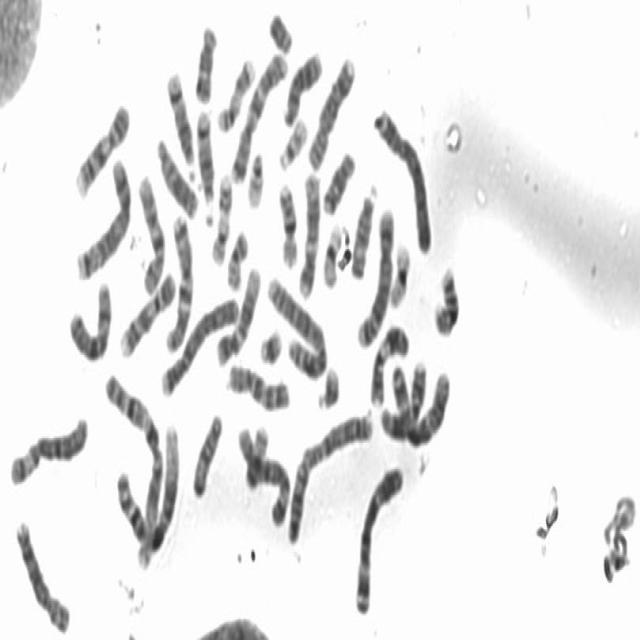A1: (103, 368, 165, 559), (117, 418, 181, 549)
A2: (284, 404, 374, 547), (263, 269, 328, 381)
A3: (351, 458, 406, 618), (380, 363, 452, 448)
B4: (369, 99, 434, 259), (158, 290, 241, 400)
B5: (74, 150, 134, 283), (354, 200, 396, 352)
C10: (134, 168, 167, 296), (225, 358, 291, 414)
C11: (377, 353, 428, 443), (367, 318, 411, 410)
C12: (214, 259, 262, 368), (296, 166, 321, 298)
C6: (6, 407, 90, 490), (234, 420, 291, 529)
C7: (228, 44, 289, 186), (162, 205, 195, 352)
C8: (12, 513, 72, 635), (305, 47, 356, 171)
C9: (73, 94, 132, 200), (117, 267, 177, 360)
D13: (154, 130, 200, 222), (281, 46, 323, 127)
D14: (164, 64, 197, 172), (194, 104, 217, 214)
D15: (189, 407, 224, 500), (349, 179, 379, 282)
E16: (431, 260, 462, 340), (275, 178, 299, 270)
E17: (214, 52, 256, 135), (208, 166, 233, 269)
E18: (319, 143, 357, 217), (191, 18, 219, 104)
F19: (386, 236, 412, 311), (320, 220, 342, 290)
F20: (243, 420, 270, 494), (224, 223, 249, 292)
G21: (314, 360, 341, 412), (256, 321, 284, 366)
G22: (276, 114, 309, 171), (244, 145, 265, 210)
X: (65, 272, 113, 366)
Y: (266, 5, 295, 57)
